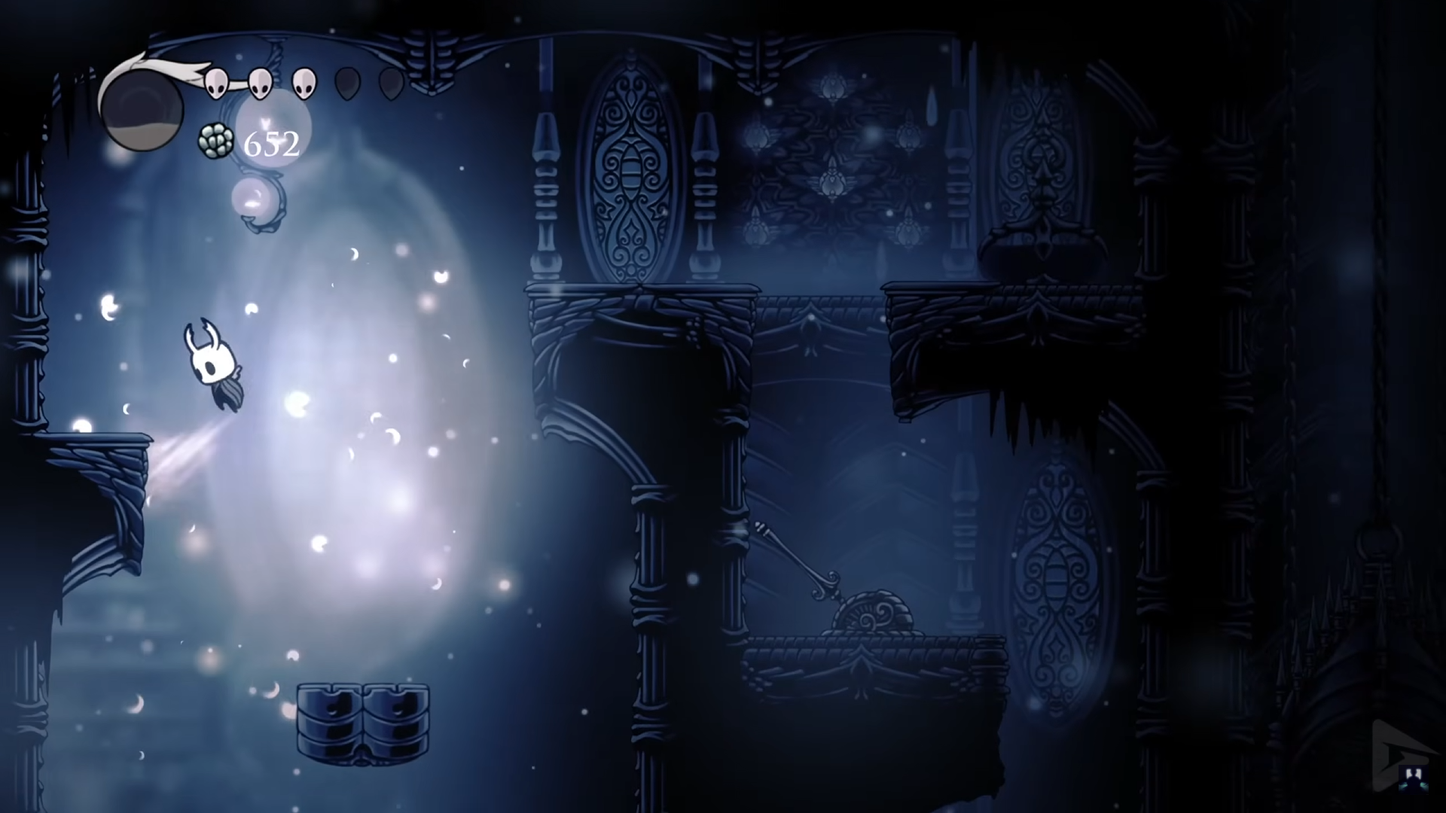HK: (178, 315, 244, 416)
